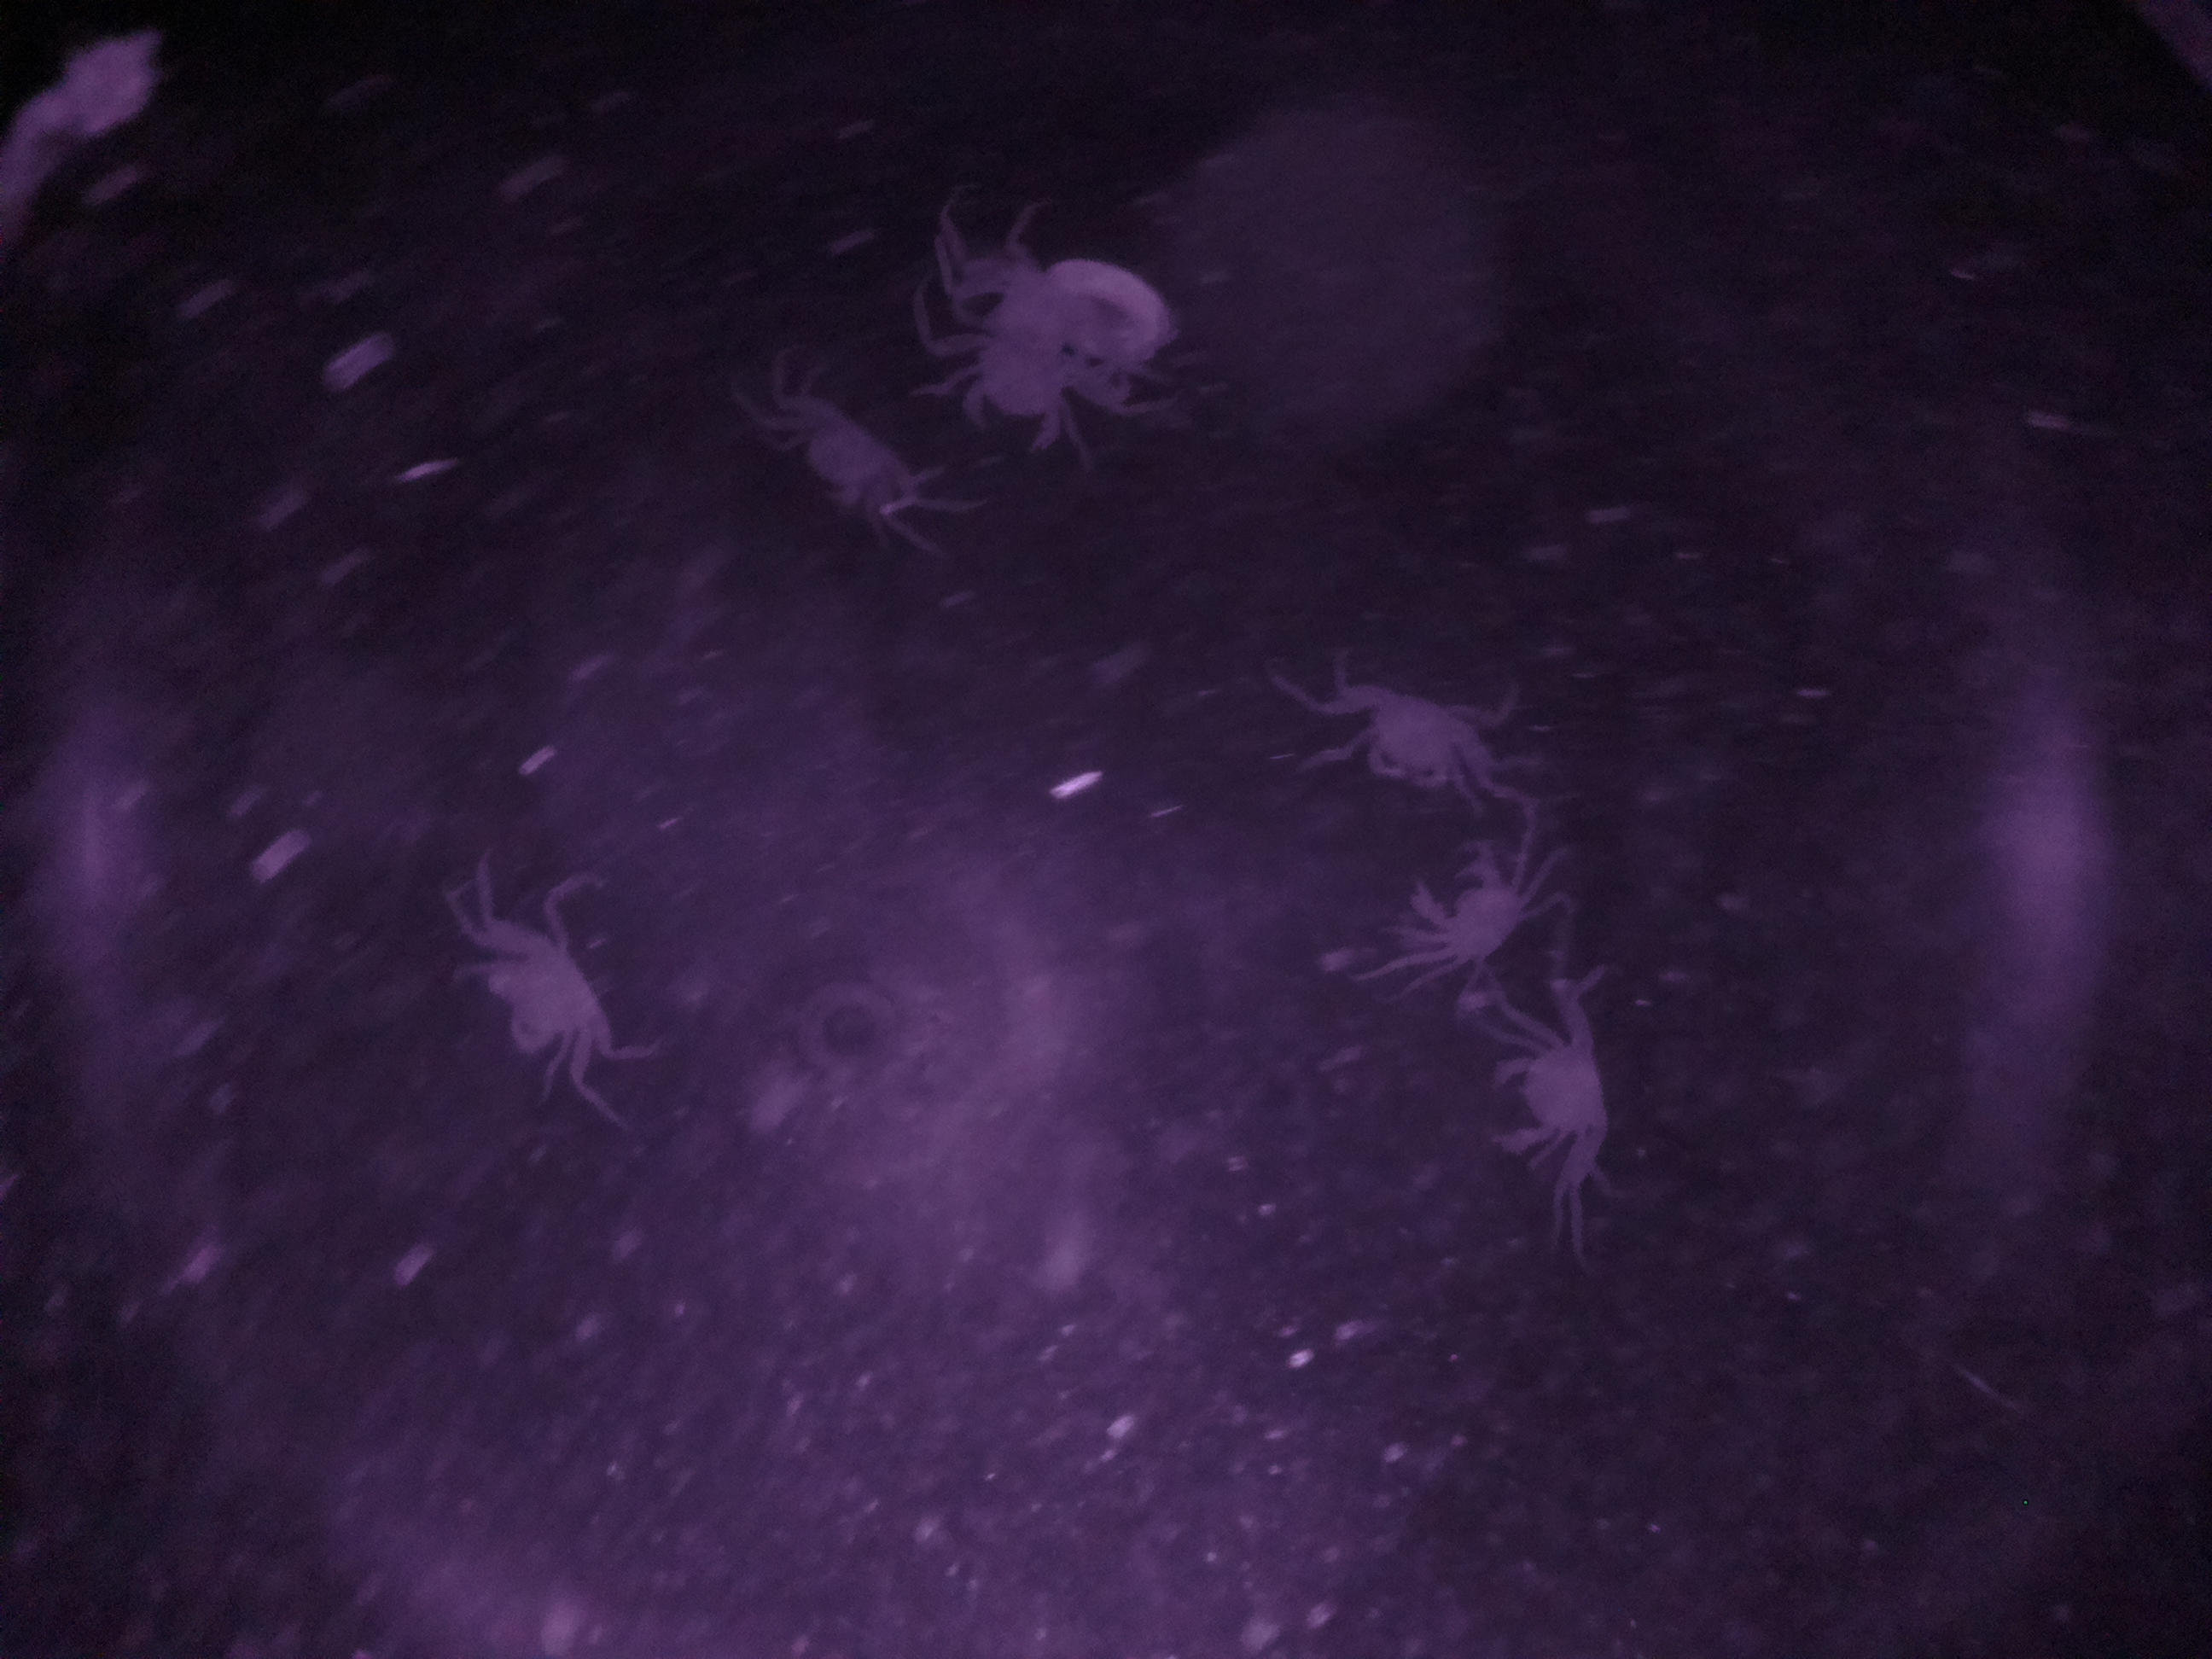Crab: (756, 364, 967, 563), (448, 894, 631, 1093), (1480, 1000, 1644, 1188), (1320, 669, 1507, 803), (1414, 821, 1550, 997)
